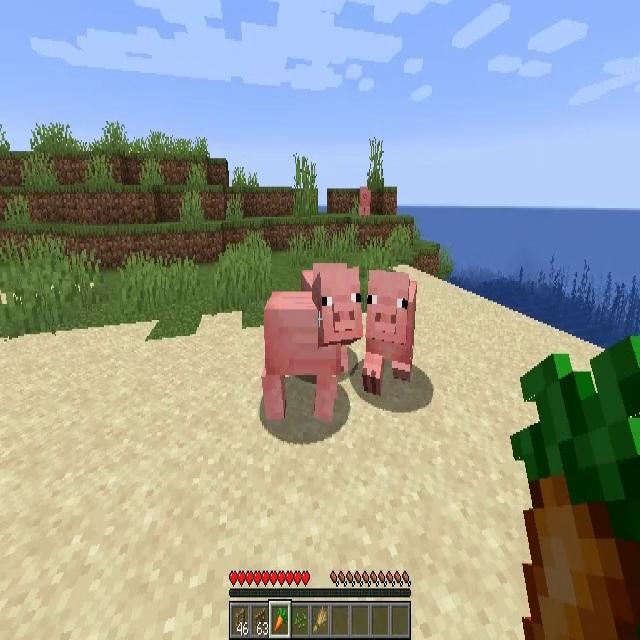pig: (265, 275, 362, 424), (363, 272, 414, 393), (358, 185, 372, 218)
